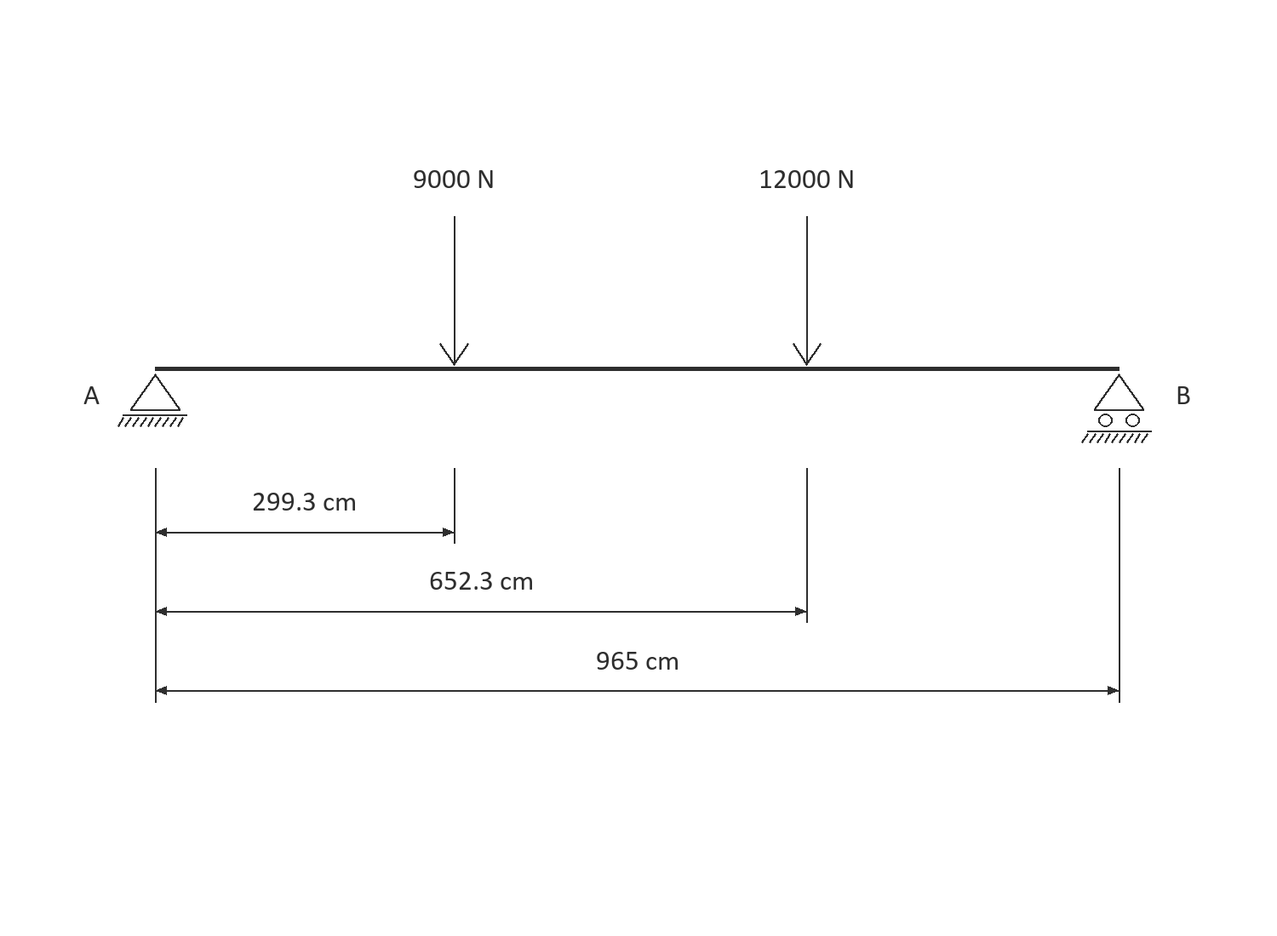pin_support: (117, 374, 187, 427)
point_load: (439, 216, 469, 366), (793, 216, 822, 366)
roller_support: (1081, 374, 1152, 443)
